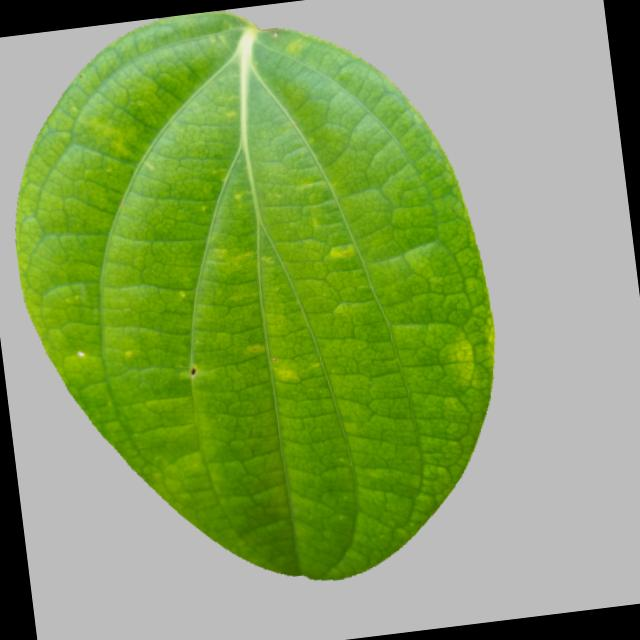healthy: (0, 0, 523, 622)
